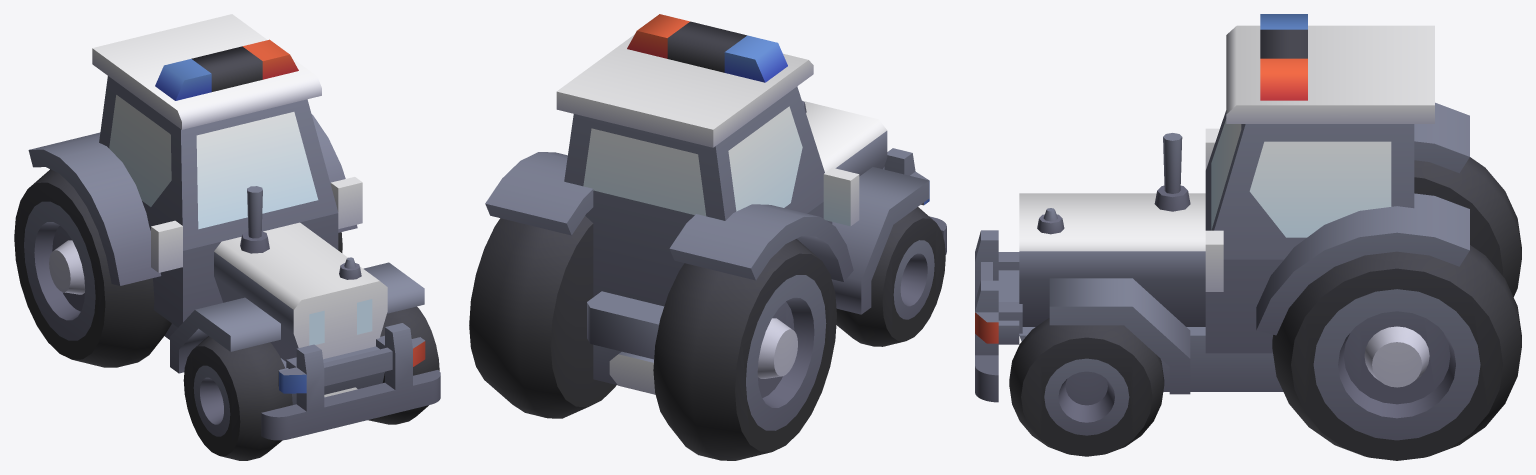
The model's file is tractor-police.glb.
3 views of the same model, side by side, from view 1: azimuth 30°, elevation 25°; view 2: azimuth 150°, elevation 25°; view 3: azimuth 270°, elevation 25° (orthographic). The views are drawn at different scales.
Parts seen in each view (by area): view 1: body, wheel-back-right, grill, wheel-front-right, wheel-front-left; view 2: body, wheel-back-right, wheel-back-left, wheel-front-right, grill; view 3: body, wheel-back-left, wheel-front-left, wheel-back-right, grill.
Boxes of the visible parts, x1,y1,x2,y2 form: body: (28,14,424,404); wheel-back-right: (14,169,171,367); grill: (261,323,440,440); wheel-front-right: (183,336,292,460); wheel-front-left: (368,306,439,424); body: (485,14,929,394); wheel-back-right: (653,239,836,460); wheel-back-left: (469,216,616,418); wheel-front-right: (836,207,945,346); grill: (883,148,946,254); body: (998,14,1469,394); wheel-back-left: (1272,245,1521,460); wheel-front-left: (1009,318,1164,456); wheel-back-right: (1414,157,1521,296); grill: (975,230,1022,402).
Bounding box in the file's own units: 1.34 × 1.7 × 2.3.
Materials: 1 (1 with a texture image).
